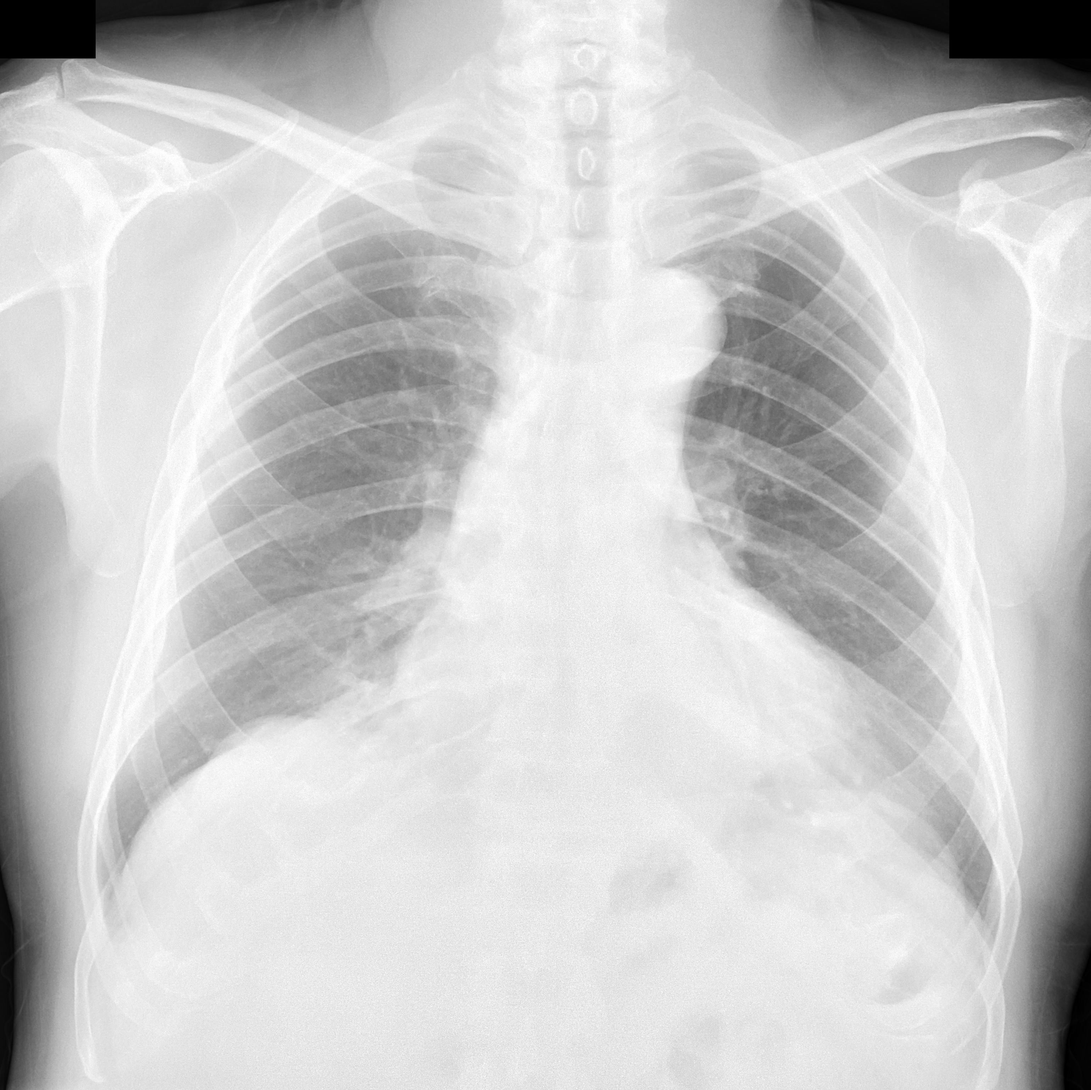Aortic enlargement: (582, 260, 723, 388)
